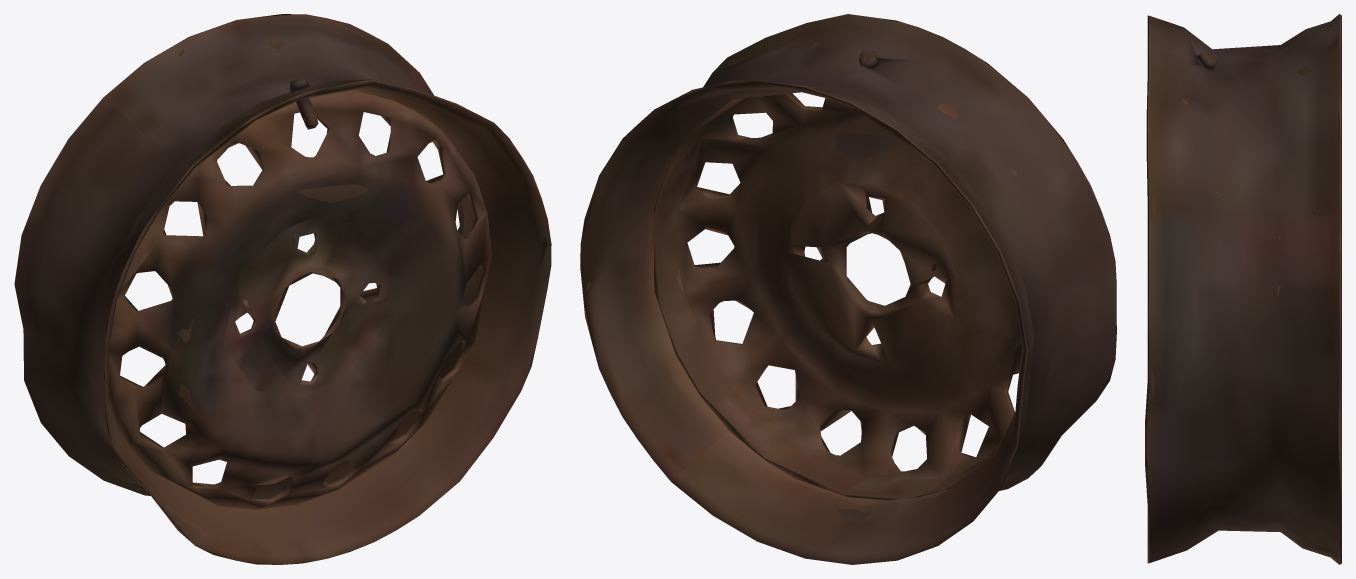
The model's file is rusted_wheel_rim_02_lod2.glb.
3 views of the same model, side by side, from view 1: azimuth 30°, elevation 25°; view 2: azimuth 150°, elevation 25°; view 3: azimuth 270°, elevation 25° (orthographic). The views are drawn at different scales.
Visible parts, largest first — view 1: rusted_wheel_rim_02; view 2: rusted_wheel_rim_02; view 3: rusted_wheel_rim_02.
Boxes of the visible parts, x1,y1,x2,y2 form: rusted_wheel_rim_02: (14,14,551,564); rusted_wheel_rim_02: (580,14,1116,564); rusted_wheel_rim_02: (1145,14,1341,564).
Bounding box in the file's own units: 0.3345 × 0.3374 × 0.1205.
1 material, 1 textured.
